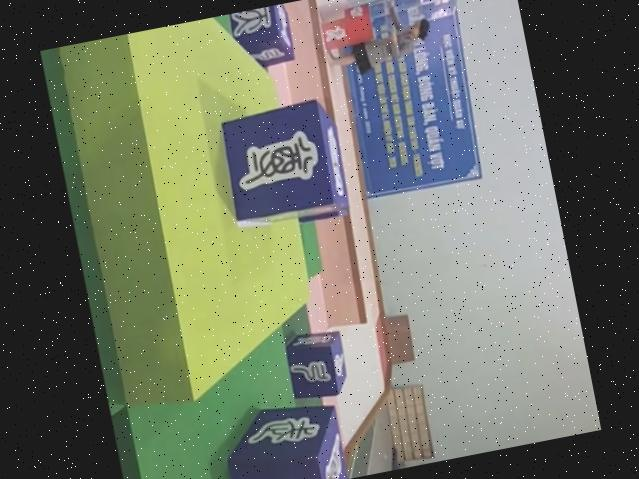R2 Fake Blue: (214, 96, 350, 234), (214, 396, 347, 479), (280, 327, 351, 405), (225, 3, 294, 71)
